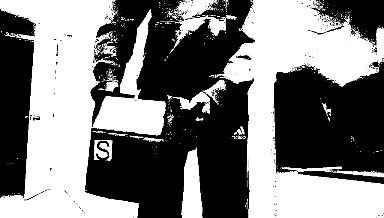S: (93, 138, 111, 160)
